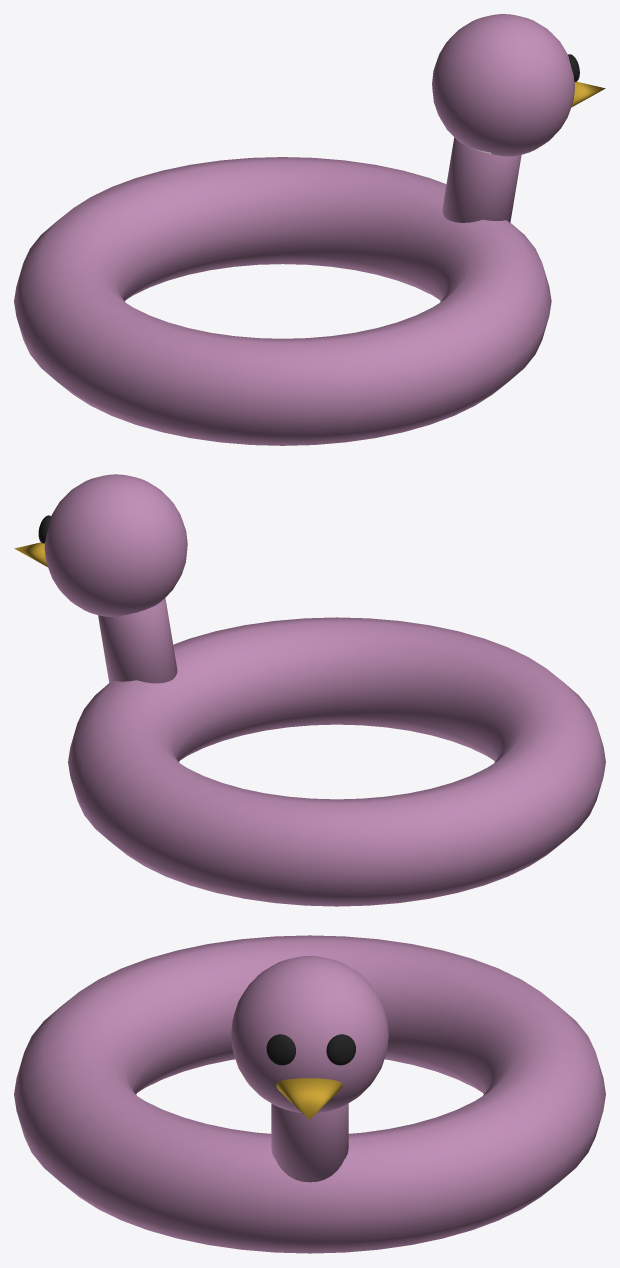
The model's file is Flamingoring_New.fbx.
3 renders of one model, top to bottom at view 1: azimuth 30°, elevation 25°; view 2: azimuth 150°, elevation 25°; view 3: azimuth 270°, elevation 25°, orthographic. The views are drawn at different scales.
Visible parts, largest first — view 1: Flamingoringnew; view 2: Flamingoringnew; view 3: Flamingoringnew.
Boxes of the visible parts, x1,y1,x2,y2 form: Flamingoringnew: [14, 14, 605, 445]; Flamingoringnew: [14, 474, 605, 906]; Flamingoringnew: [14, 935, 605, 1253].
Size of the model in its own units: 1.49 by 0.7084 by 1.25.
